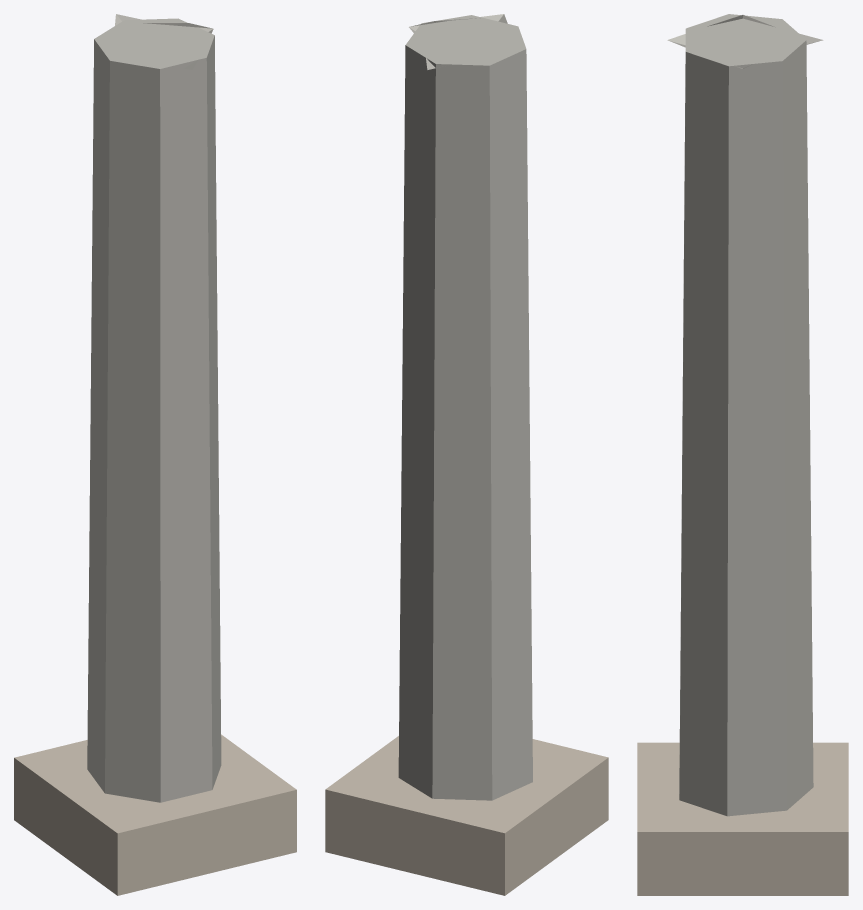
Rendered from column_v24.glb.
The picture shows the model from 3 angles, left to right: view 1: azimuth 30°, elevation 25°; view 2: azimuth 150°, elevation 25°; view 3: azimuth 270°, elevation 25°; orthographic projection. The views are drawn at different scales.
Parts seen in each view (by area): view 1: lod0; view 2: lod0; view 3: lod0.
Part boxes in pixels (left/top/right/bottom): lod0: left=14, top=14, right=296, bottom=895; lod0: left=325, top=14, right=608, bottom=895; lod0: left=637, top=14, right=848, bottom=895.
Size of what is drawn, in the model's own units: 0.48 by 2.08 by 0.48.
